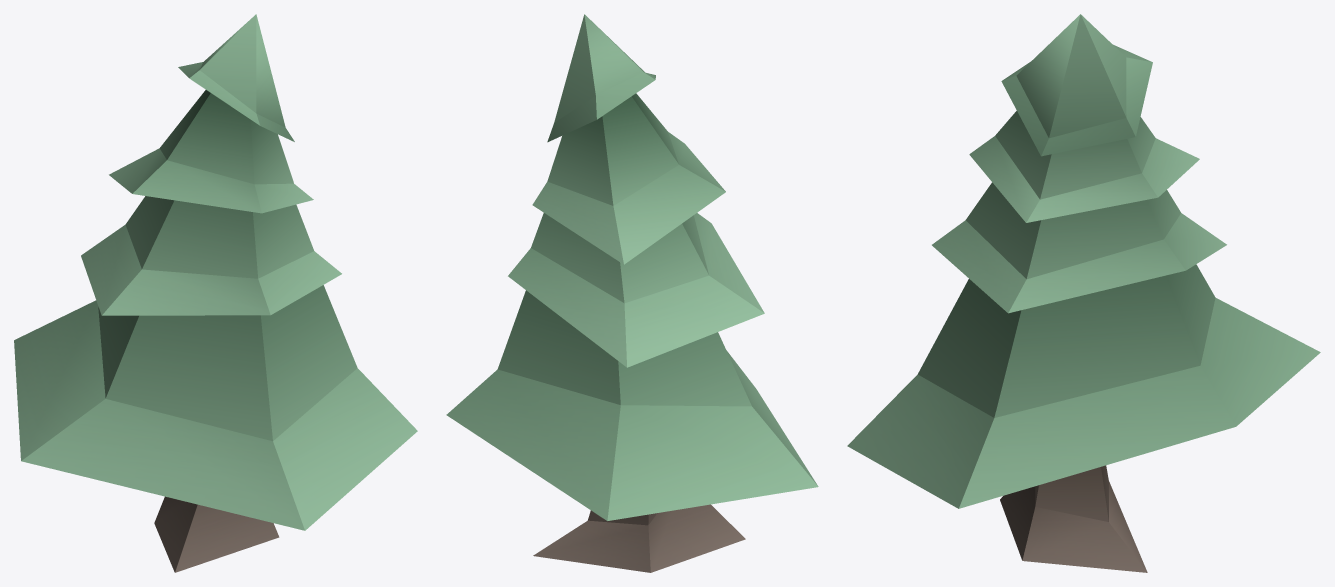
Rendered from tree03_mdl.FBX.
3 views of the same model, side by side, from view 1: azimuth 30°, elevation 25°; view 2: azimuth 150°, elevation 25°; view 3: azimuth 270°, elevation 25° (orthographic). The views are drawn at different scales.
Visible parts, largest first — view 1: Tree3; view 2: Tree3; view 3: Tree3.
Boxes of the visible parts, <box> form: Tree3: <box>14,14,417,572</box>; Tree3: <box>446,14,818,572</box>; Tree3: <box>847,14,1320,572</box>.
Bounding box in the file's own units: 3.56 × 5.09 × 3.99.
1 material, 1 textured.
